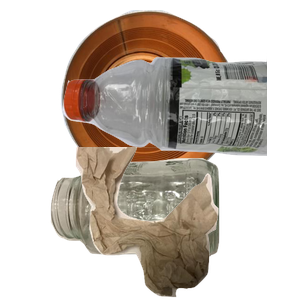glass: (48, 156, 260, 300)
metal: (58, 10, 289, 186)
plastic: (60, 53, 300, 201)
trash: (73, 147, 300, 300)
